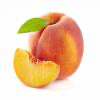Peach leaf: (14, 17, 53, 36)
